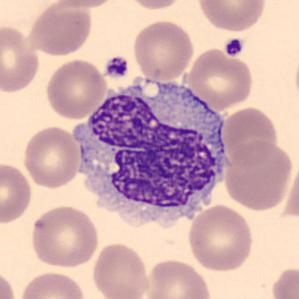Monocyte: (66, 70, 238, 235)
Platelets: (103, 54, 131, 80), (224, 37, 245, 58)
RBC: (222, 139, 294, 212), (186, 202, 256, 274), (28, 202, 101, 270), (186, 47, 255, 110), (132, 18, 196, 82), (43, 57, 108, 120), (21, 124, 81, 190), (28, 0, 95, 58), (220, 106, 280, 167), (90, 241, 151, 299), (0, 22, 42, 95), (141, 257, 213, 299), (195, 0, 268, 33), (0, 160, 33, 225), (17, 269, 87, 299), (269, 264, 298, 299), (122, 0, 187, 12), (50, 0, 121, 10), (0, 267, 19, 299)
